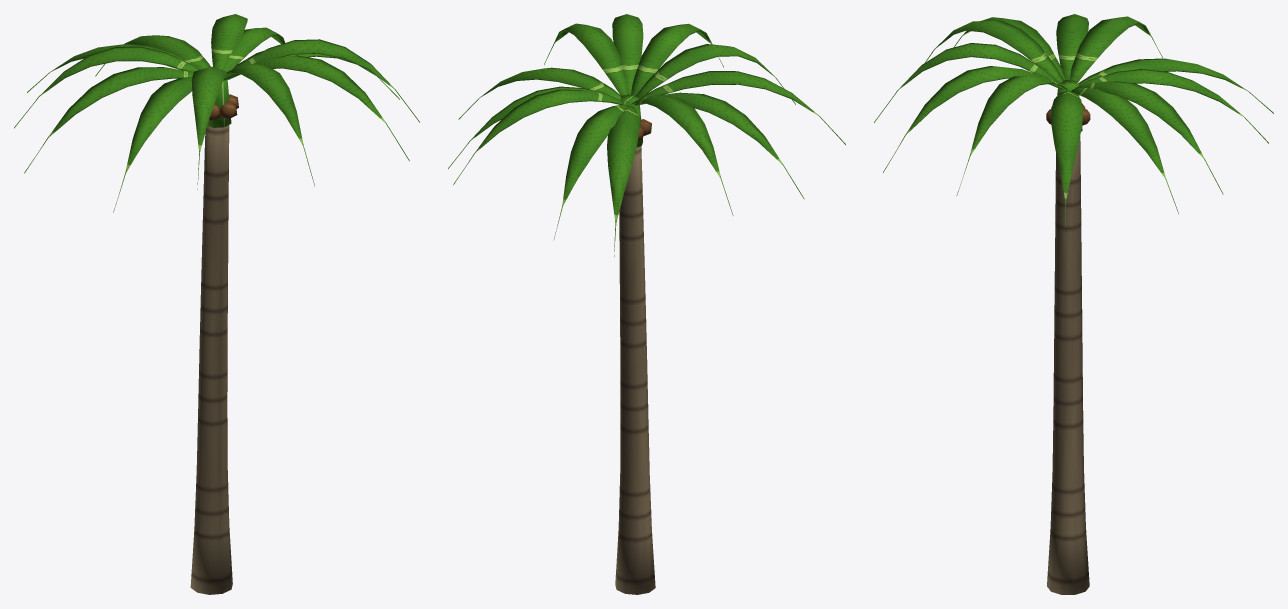
Rendered from aa_palm.fbx.
The picture shows the model from 3 angles, left to right: view 1: azimuth 30°, elevation 25°; view 2: azimuth 150°, elevation 25°; view 3: azimuth 270°, elevation 25°; orthographic projection. The views are drawn at different scales.
Parts seen in each view (by area): view 1: Asset_Palm; view 2: Asset_Palm; view 3: Asset_Palm.
Part boxes in pixels (left/top/right/bottom): Asset_Palm: left=14, top=14, right=419, bottom=594; Asset_Palm: left=448, top=14, right=845, bottom=594; Asset_Palm: left=874, top=14, right=1273, bottom=594.
Size of the model in its own units: 14.77 by 21.01 by 13.98.
Materials: 1 (1 with a texture image).
